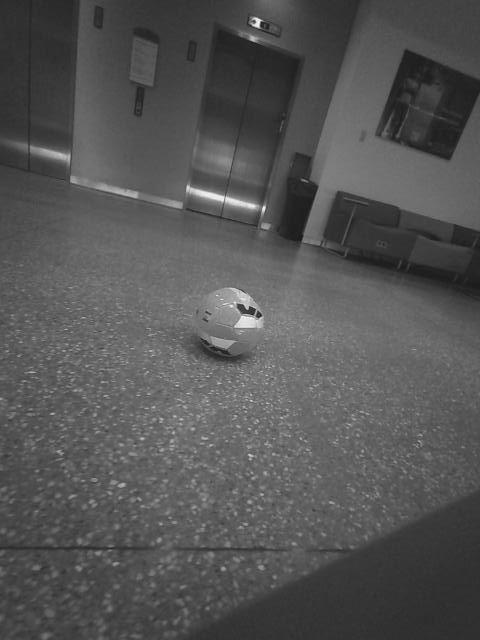ball: (221, 204, 239, 225)
